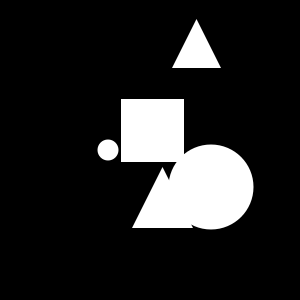circle: (121, 99, 184, 162)
rectangle: (169, 144, 254, 229), (97, 140, 118, 160)
triangle: (132, 167, 193, 228), (172, 19, 221, 68)
